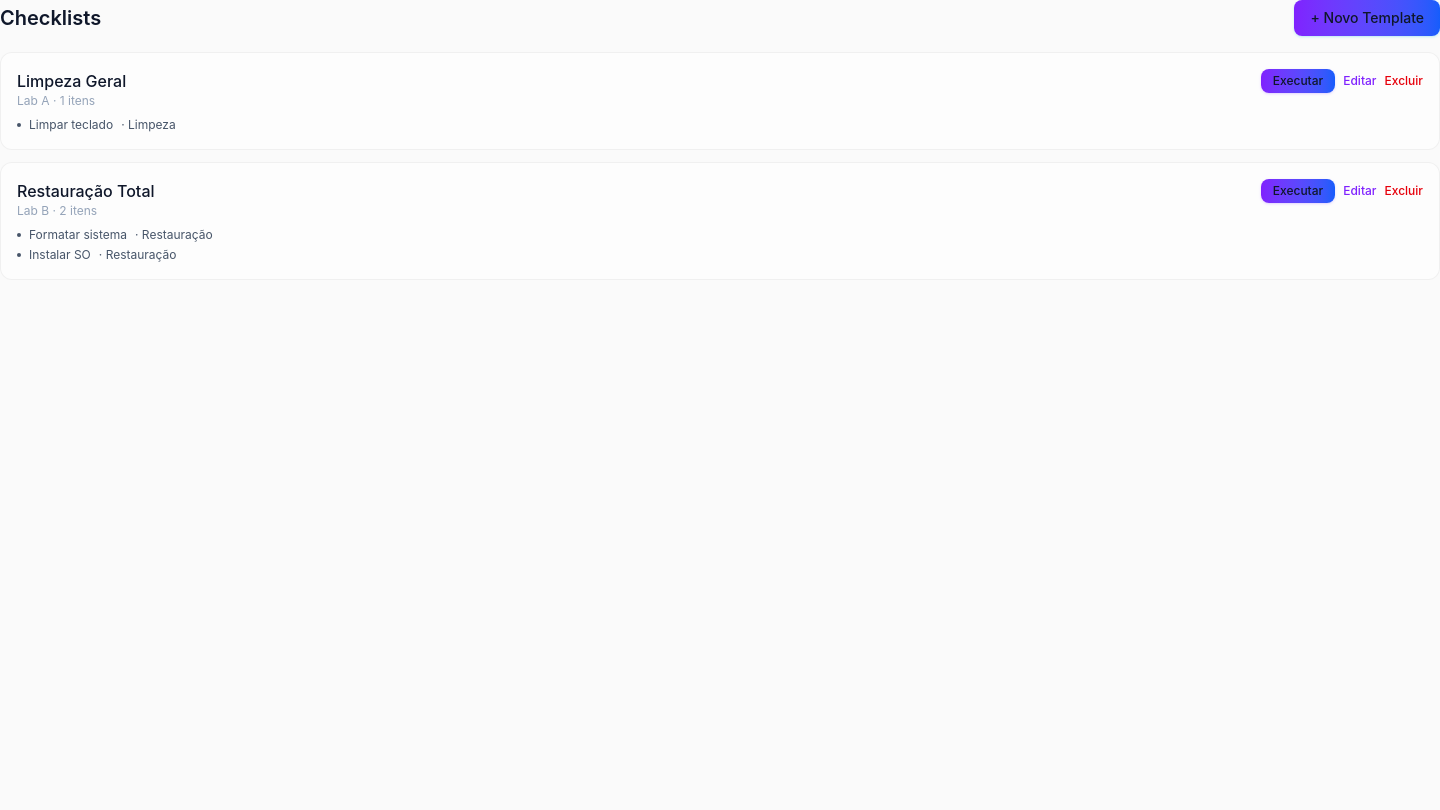
Test: ChecklistTemplates › abre confirm dialog ao clicar "Excluir"
This screenshot has width=1440, height=810.
Click the button "Excluir" in the row of "Limpeza Geral" at (1404, 81), box [1384,69,1423,93]
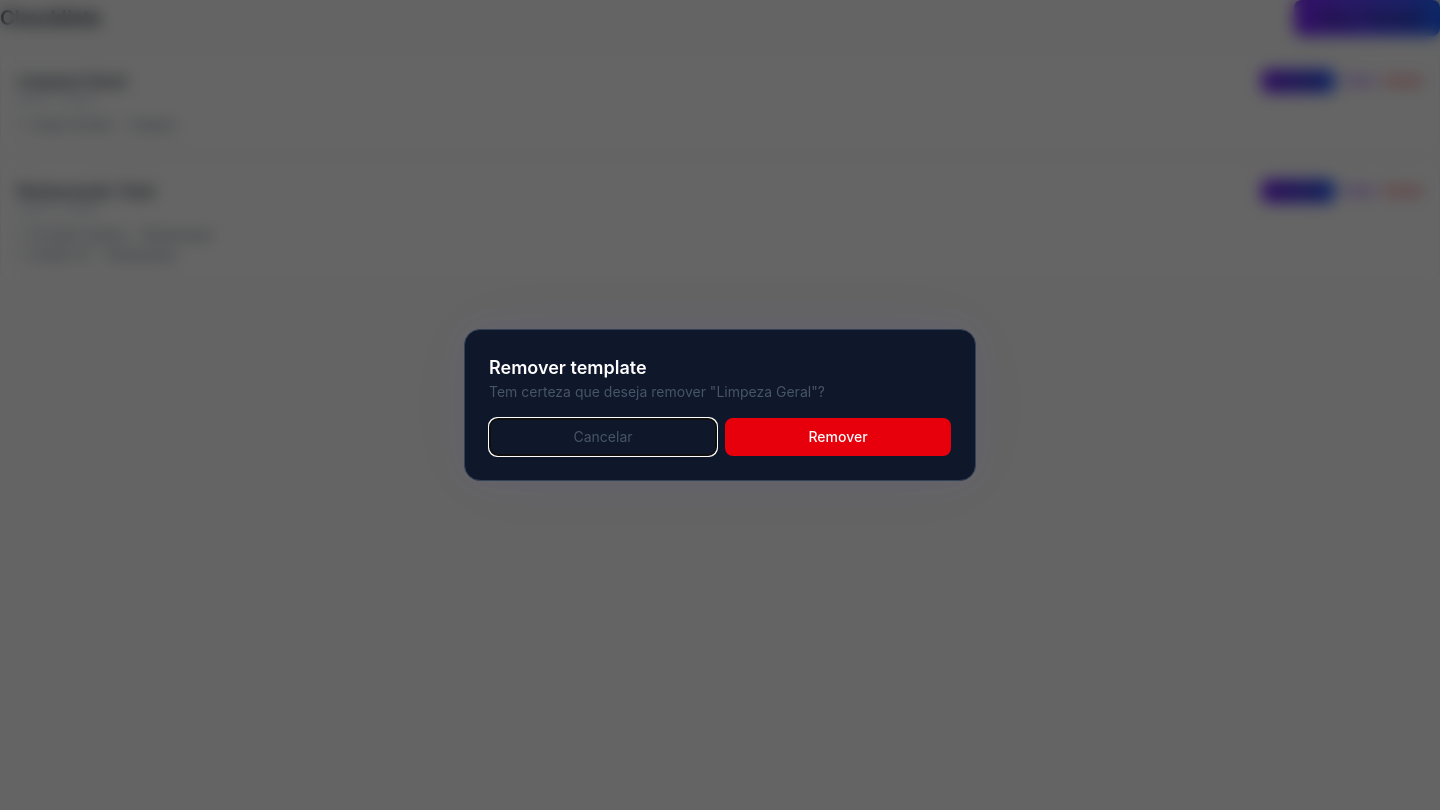
Expected: the heading "Remover template" is shown, [489,357,647,378]
